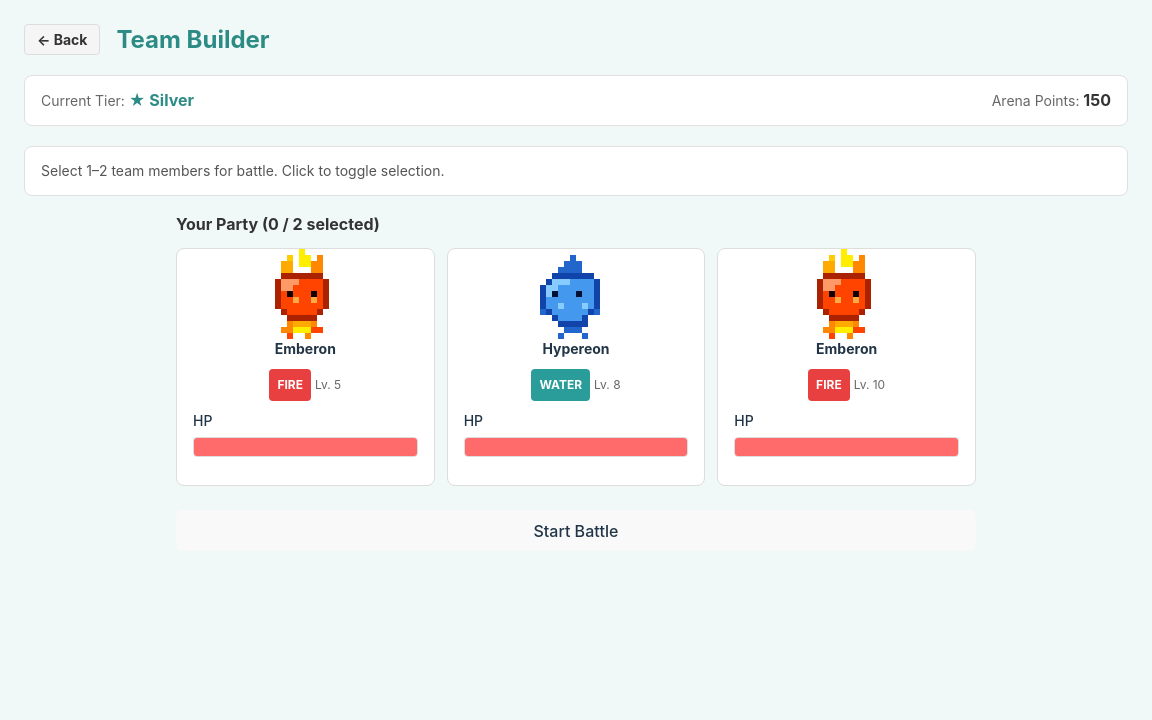
Test: TeamBuilder › shows error when trying to select > 2
The width and height of the screenshot is (1152, 720).
Click the element showing "Emberon Fire Lv. 5 HP".
click(305, 367)  # box [176,248,435,486]
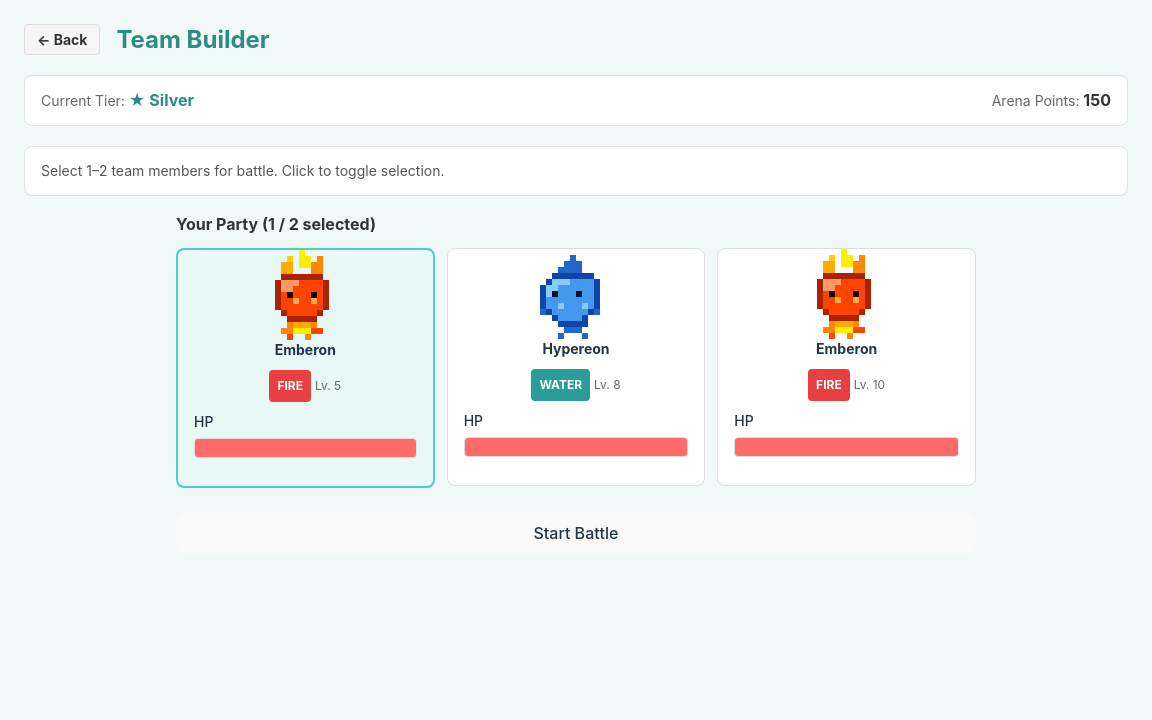
Click the element showing "Hypereon Water Lv. 8 HP".
click(576, 368)  # box [447,248,705,488]
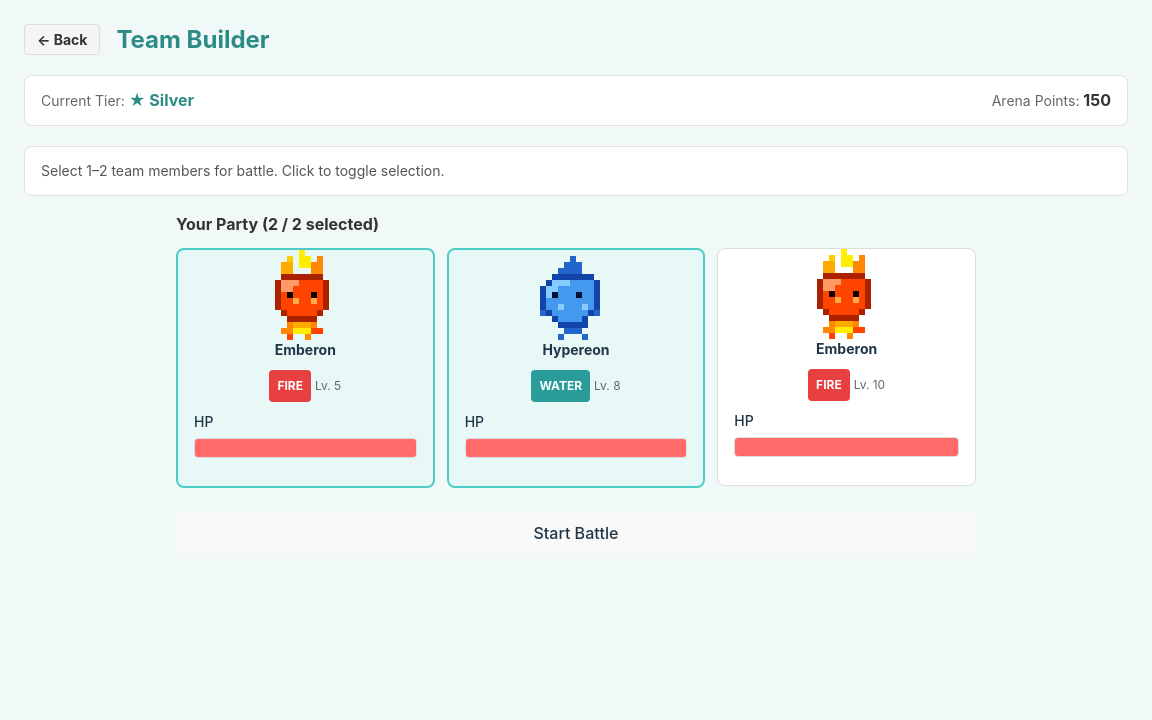
Click the element showing "Emberon Fire Lv. 10 HP".
click(847, 368)  # box [717,248,976,488]
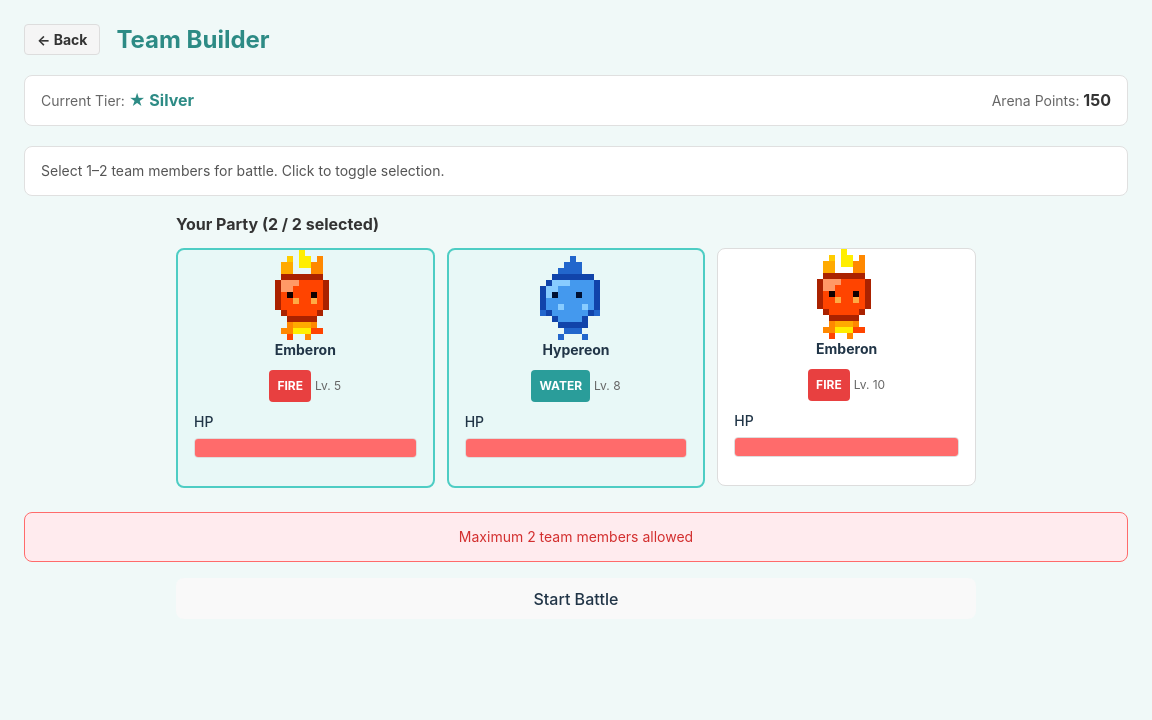
expect the text "Maximum 2 team members allowed" is shown: met, box [24,512,1128,562]
